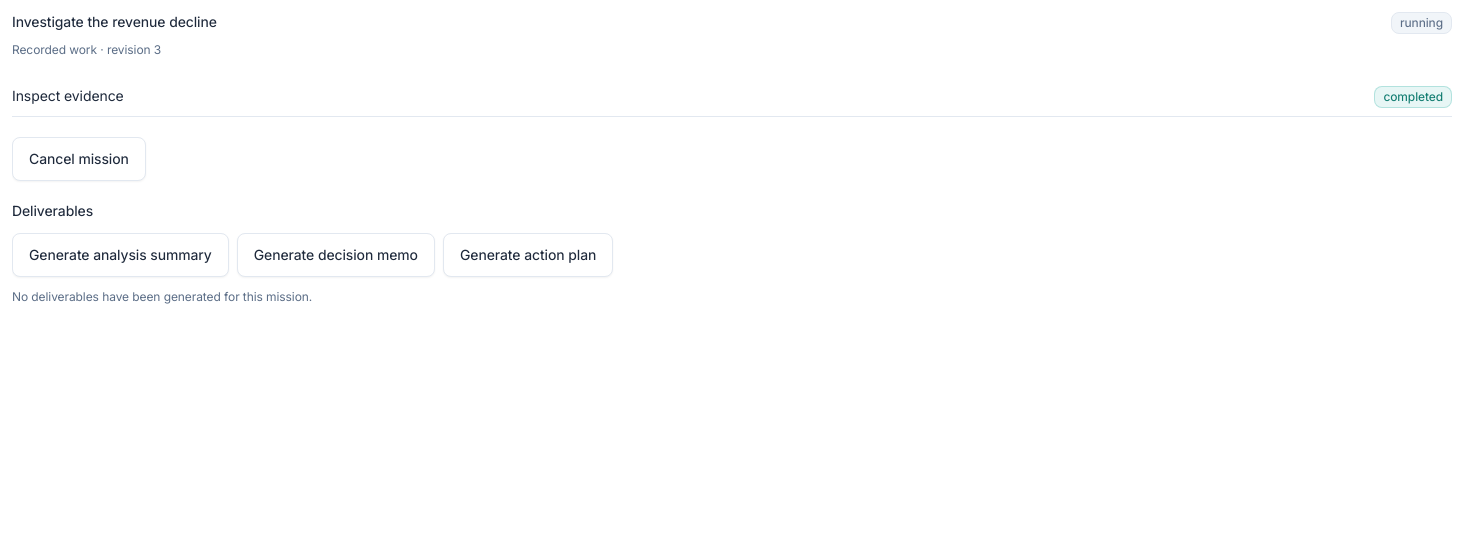
Scenario: Mission operations › retries generation with the same operation and displays persisted references
Click the button "Generate decision memo" at {"x": 336, "y": 255}, box left=237, top=233, right=435, bottom=277
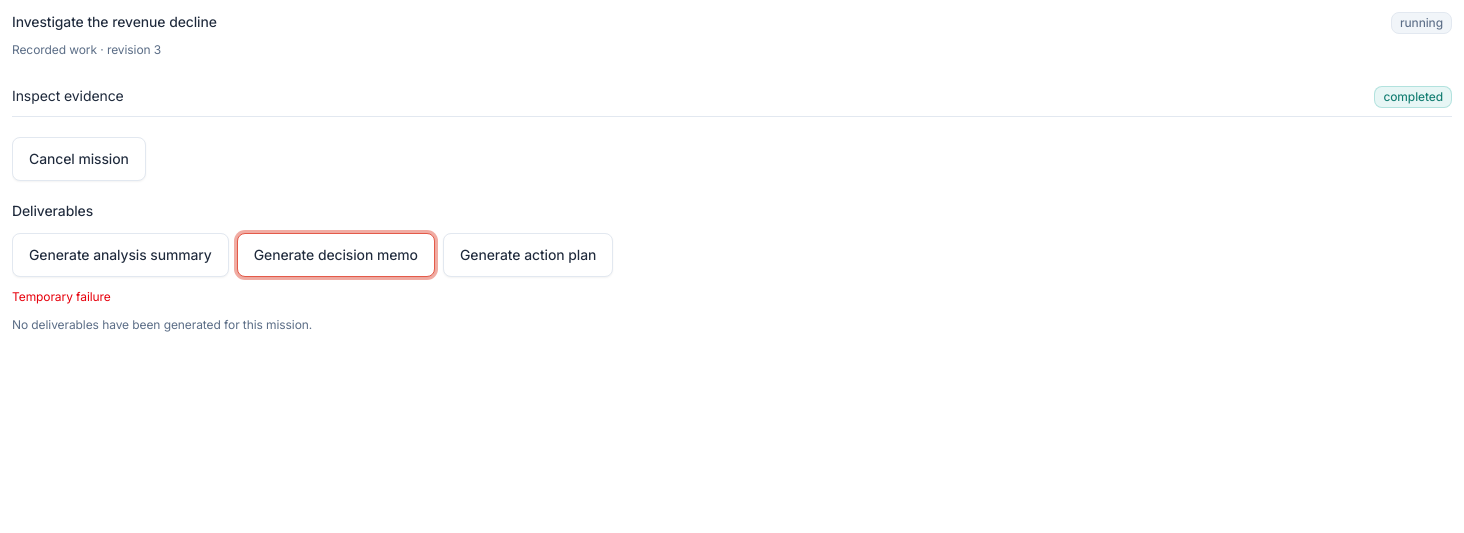
Expected: the text "Temporary failure" is shown, left=12, top=289, right=111, bottom=304
Click the button "Generate decision memo" at {"x": 336, "y": 255}, box left=237, top=233, right=435, bottom=277
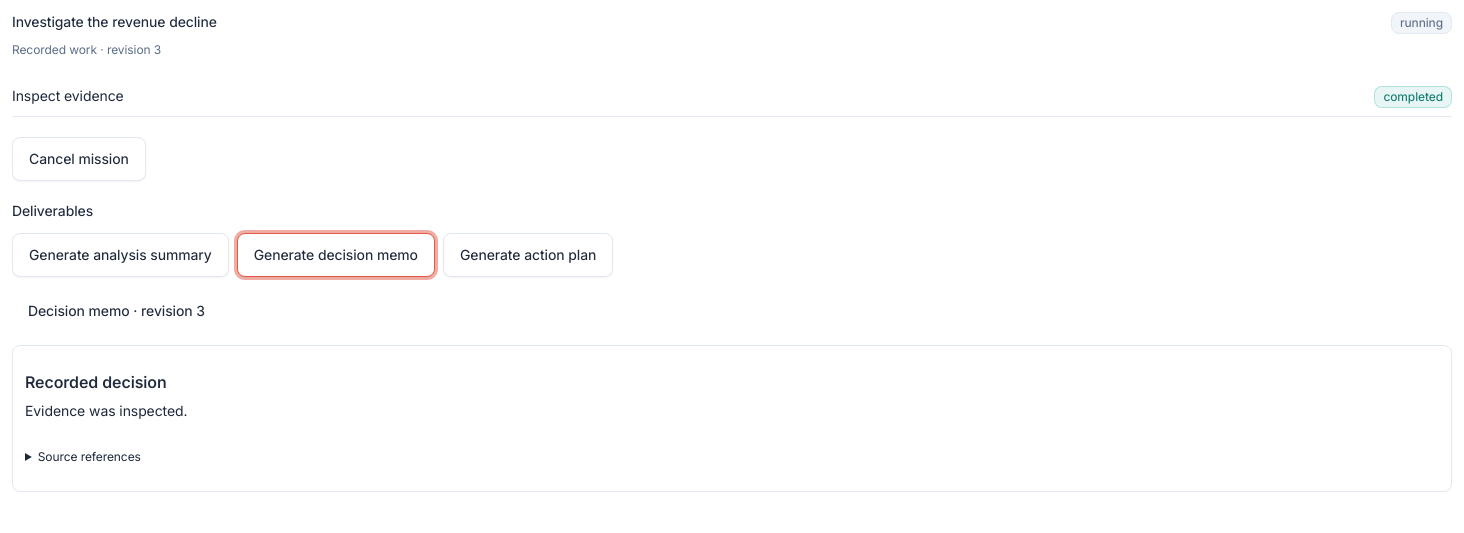
Expected: the heading "Recorded decision" is shown, left=25, top=372, right=166, bottom=392
Click the heading "Source references" at {"x": 89, "y": 456}, box left=38, top=449, right=141, bottom=464
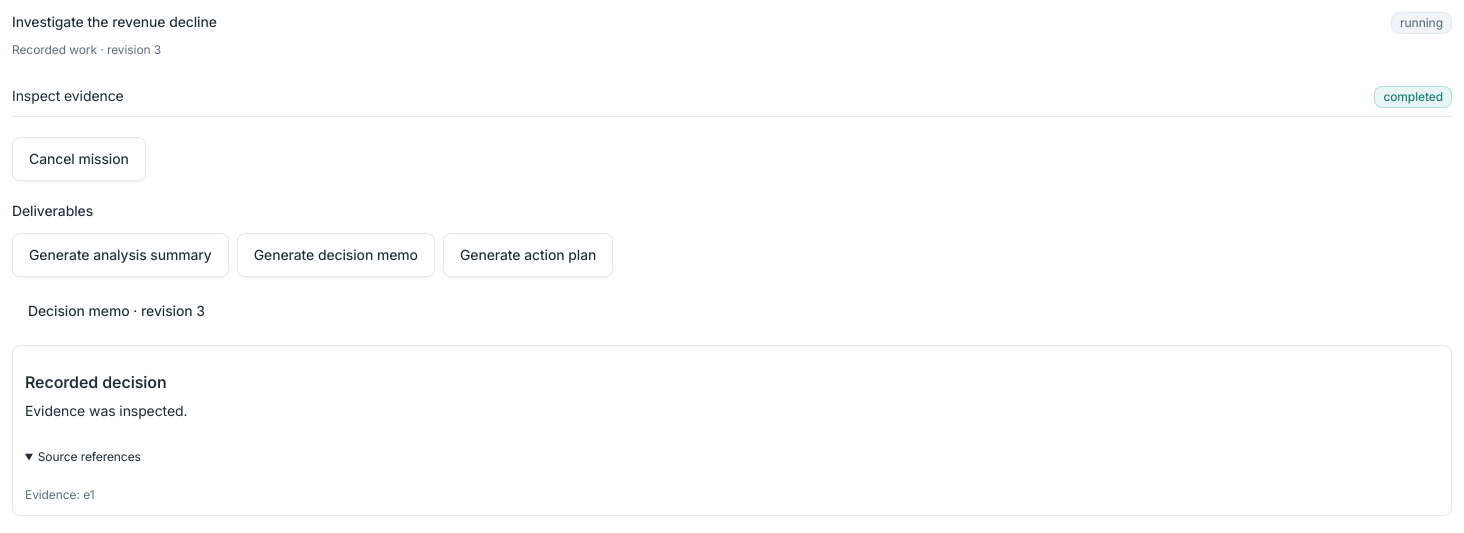
Expected: the list item "Evidence: e1" is shown, left=25, top=487, right=94, bottom=502
